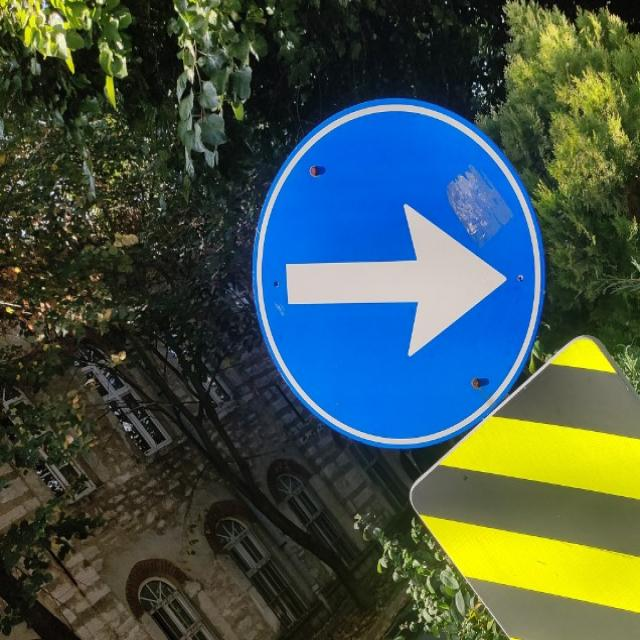Turn Right: (245, 94, 547, 454)
